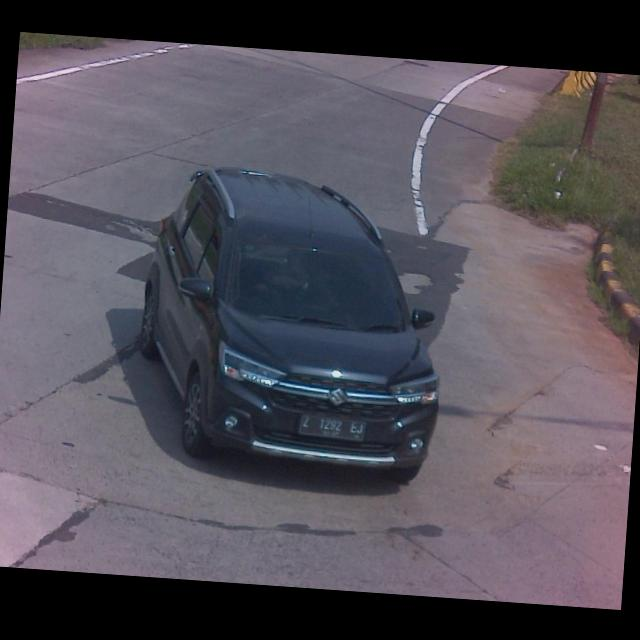plate: (296, 410, 367, 444)
